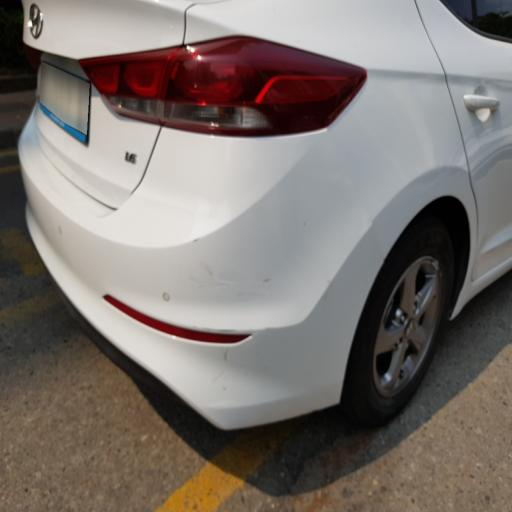scratch: (132, 212, 292, 339)
